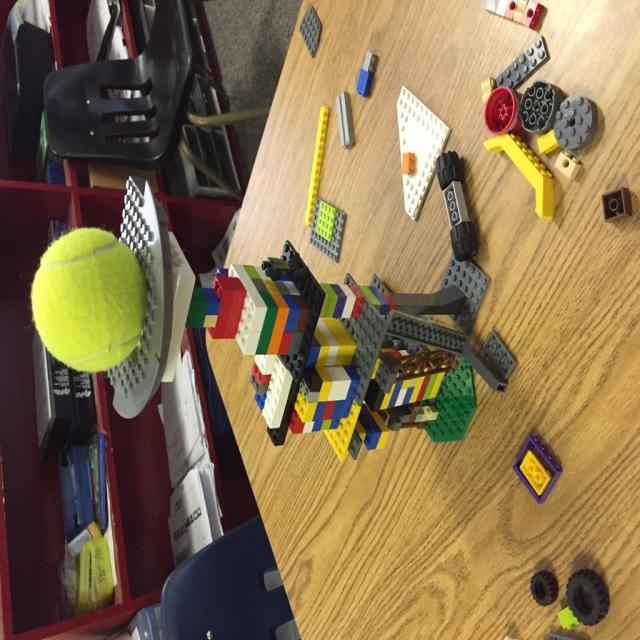Tennis ball: (28, 224, 150, 372)
